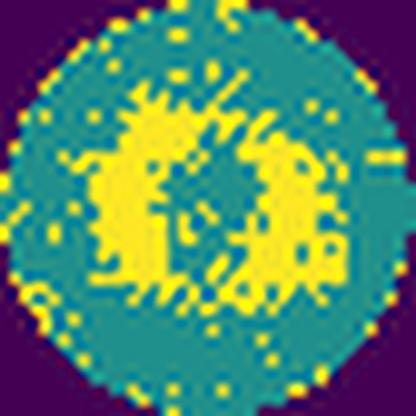Donut: (80, 50, 355, 324)
